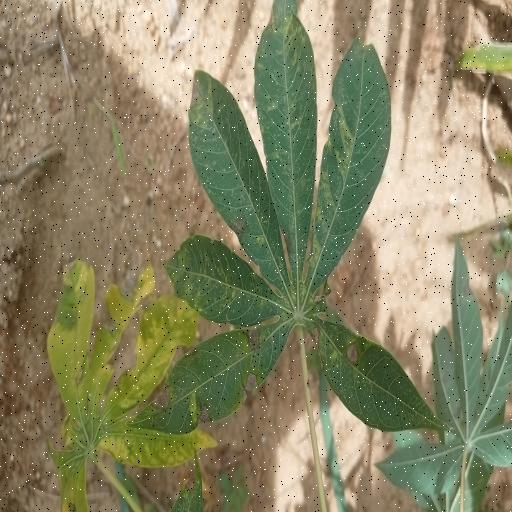Cassava_Brown_Leaf_Spot: (127, 0, 446, 432), (46, 251, 217, 509)
